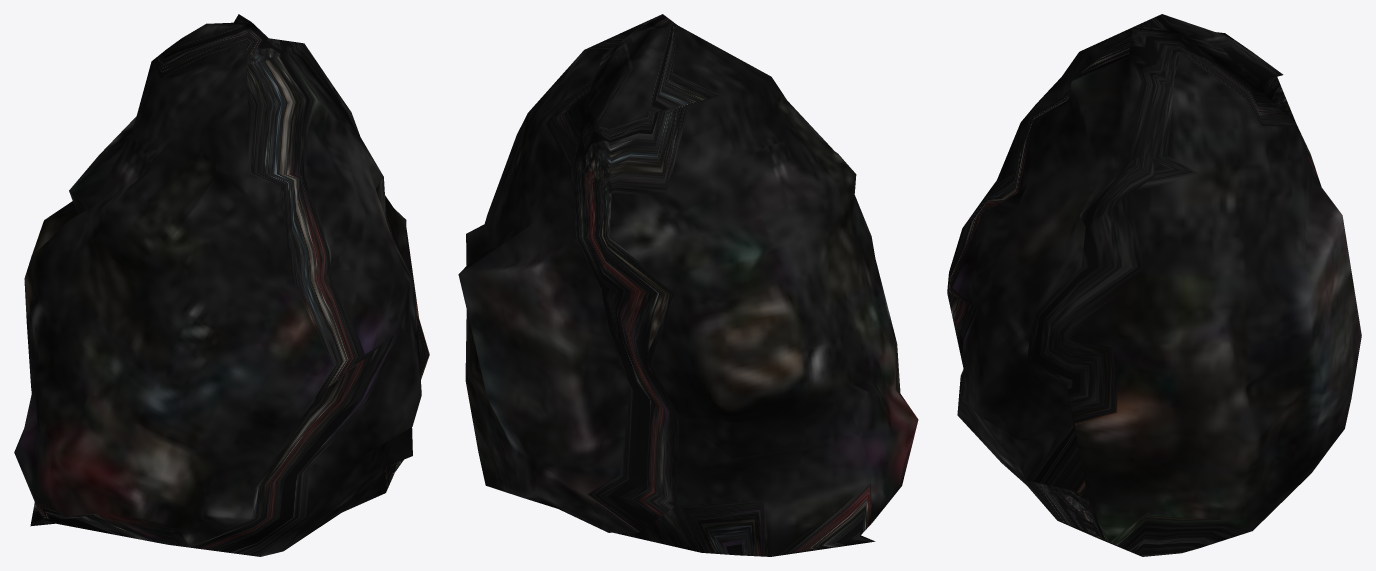
The model's file is backpack_abfallsack.glb.
3 renders of one model, left to right at view 1: azimuth 30°, elevation 25°; view 2: azimuth 150°, elevation 25°; view 3: azimuth 270°, elevation 25°, orthographic. The views are drawn at different scales.
Size of the model in its own units: 0.495 by 0.5679 by 0.461.
1 material, 1 textured.
